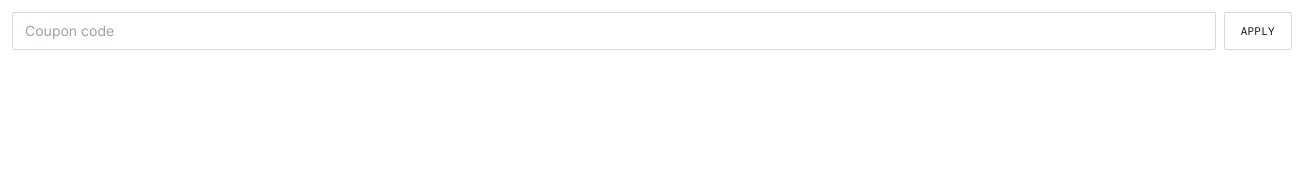
Test case: CouponForm › shows the server-returned error when applying fails, without refreshing the router
Type "BADCODE" into the field with placeholder "Coupon code" at (614, 31), box [12, 12, 1216, 50]
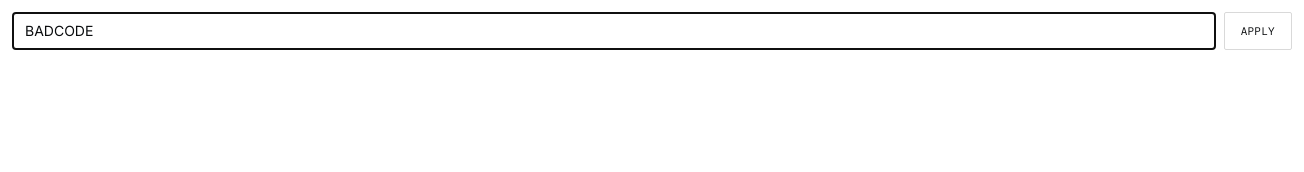
Click the button "Apply" at (1258, 31), box [1224, 12, 1292, 50]
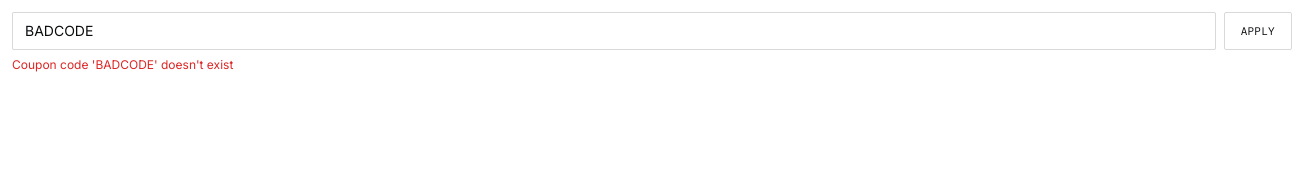
expect the text "Coupon code 'BADCODE' doesn't exist" is shown: met, box [12, 57, 233, 72]
